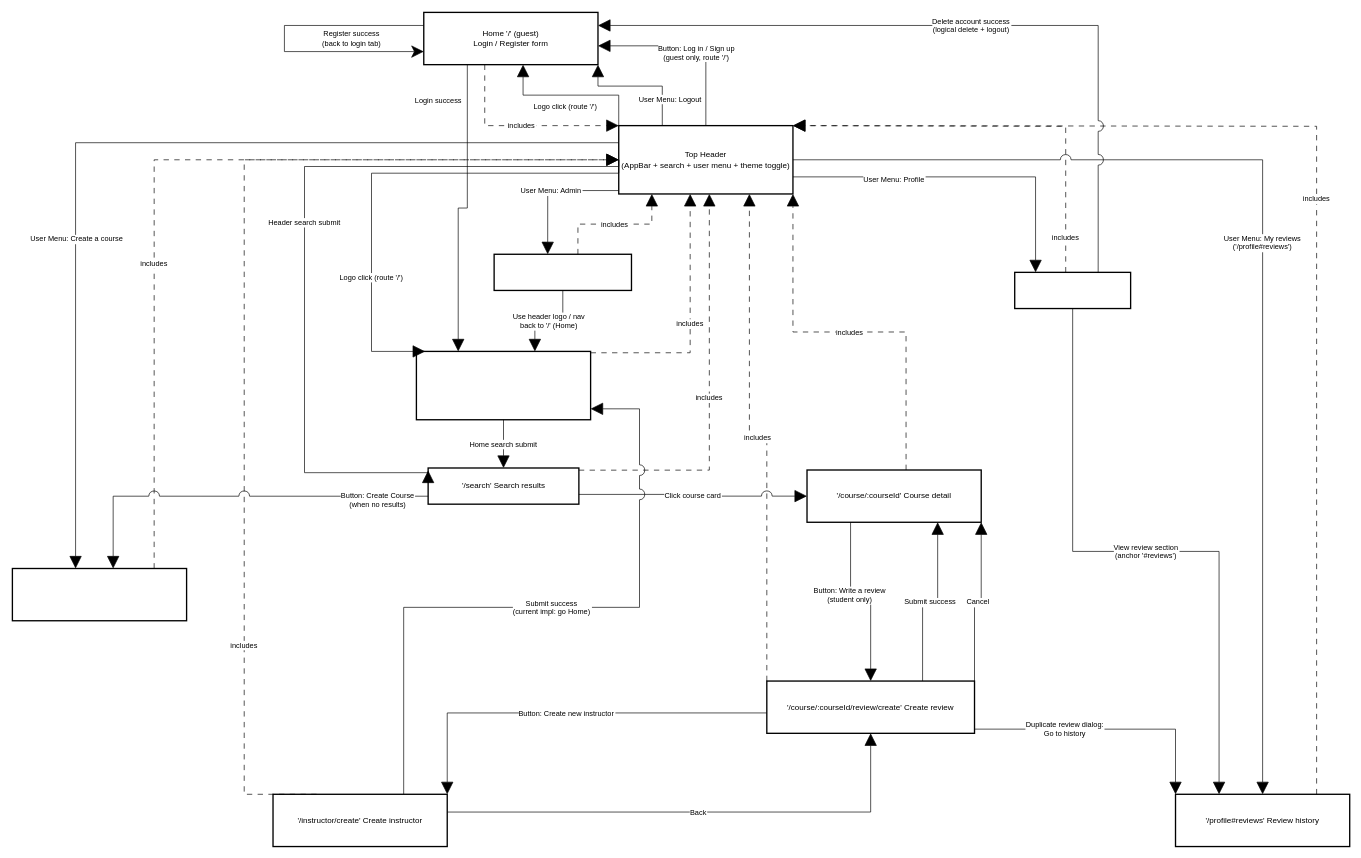
Some shapes in this 1361 by 858 pixel diagram are drawn without their labels. The box of each missing label's shape, as (x1, y1, x2, y2) in pixels:
'/admin' Admin page: (493, 253, 632, 291)
'/course/create' Create course: (11, 567, 187, 621)
'/profile' Profile: (1014, 271, 1131, 309)
Home '/' (logged-in) Search + encouragement: (415, 350, 591, 420)
